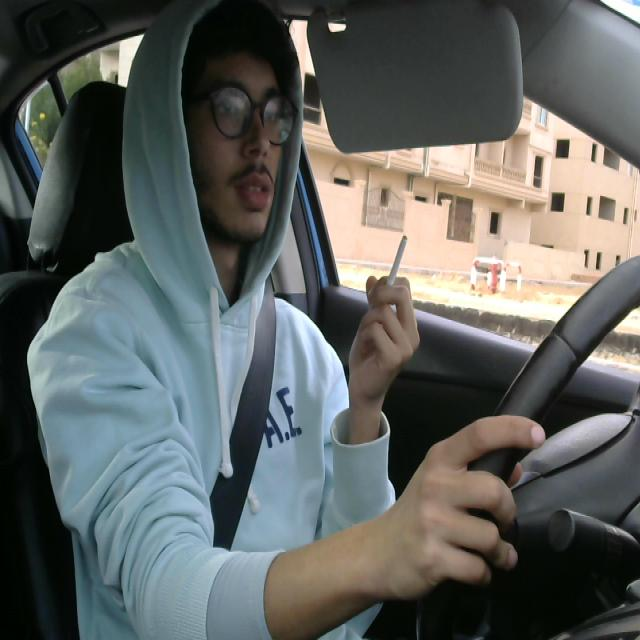smoking: (379, 231, 413, 312)
